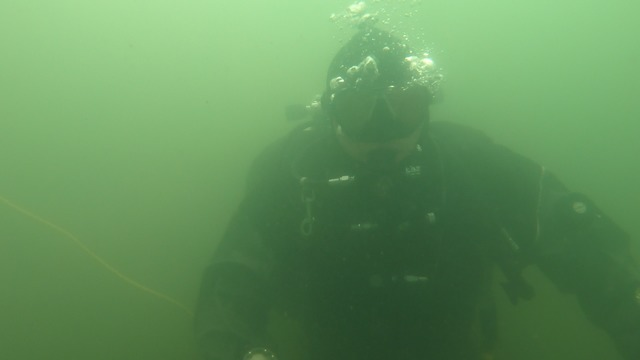Diver: (168, 8, 627, 350)
Head: (301, 17, 451, 209)
